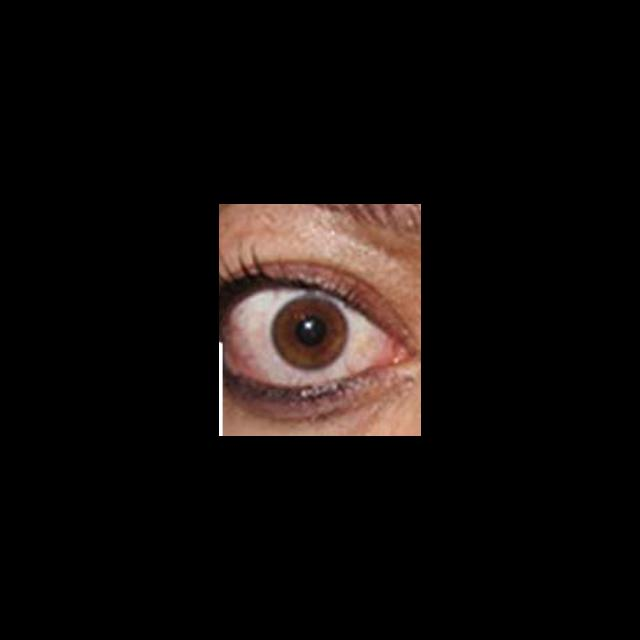eye: (224, 285, 390, 388)
iris: (273, 293, 347, 370)
